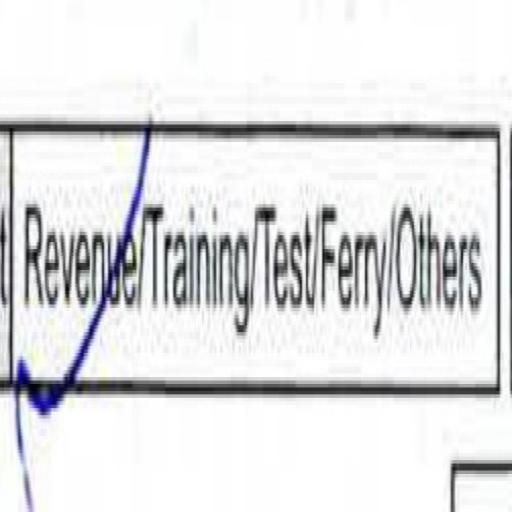check: (16, 114, 147, 498)
